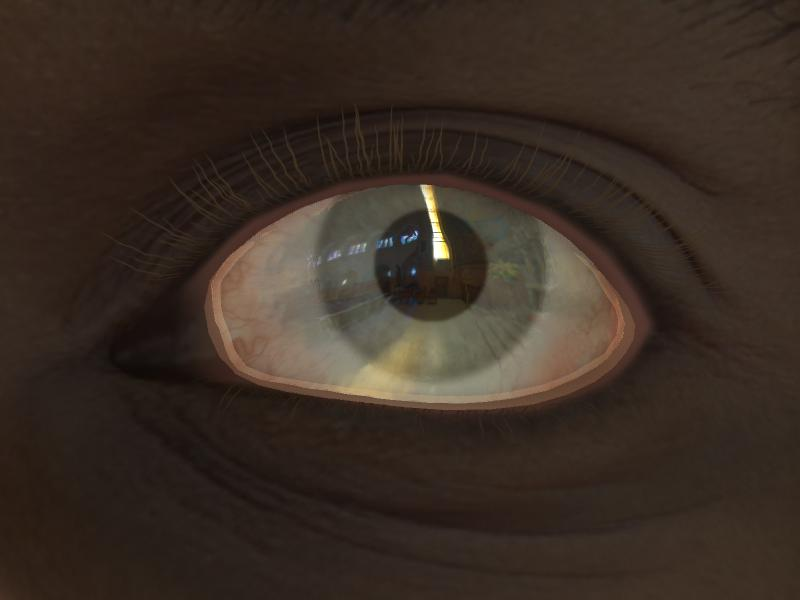eye: (316, 181, 543, 380)
